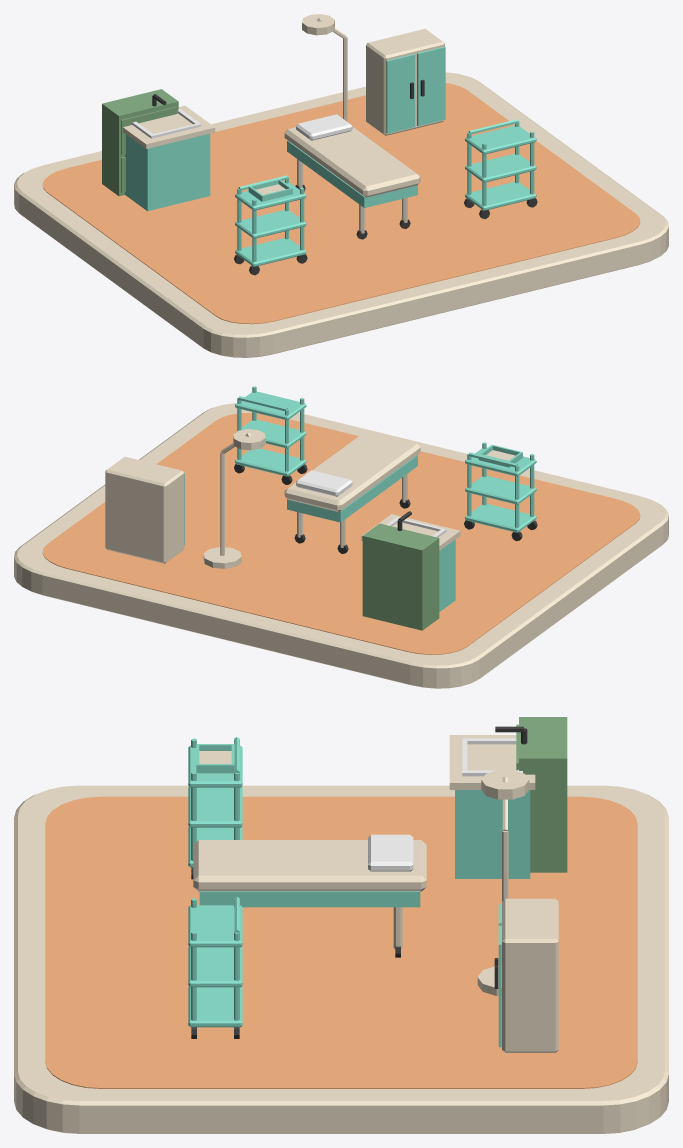
The picture shows the model from 3 angles, top to bottom: view 1: azimuth 30°, elevation 25°; view 2: azimuth 150°, elevation 25°; view 3: azimuth 270°, elevation 25°; orthographic projection. The views are drawn at different scales.
Visible parts, largest first — view 1: COM-02 Floor Surface, COM-01 Rounded Base Direct, Cabinet, Mattress, Cabinet.001, Equipment case, Door.001, Door, Counter, Tray.005, Tray.004, Tray (+6 smaller); view 2: COM-02 Floor Surface, COM-01 Rounded Base Direct, Equipment case, Cabinet.001, Mattress, Tray.001, Tray, Tray.003, Base, Tray.005, Cabinet, Pillow (+7 smaller); view 3: COM-02 Floor Surface, COM-01 Rounded Base Direct, Mattress, Equipment case, Cabinet.001, Cabinet, Counter, Base, Tray.005, Tray.003, Tray.004, Tray.001 (+5 smaller).
Part boxes in pixels (<box>): COM-02 Floor Surface: <box>42,83,640,324</box>; COM-01 Rounded Base Direct: <box>14,72,668,357</box>; Cabinet: <box>125,133,210,211</box>; Mattress: <box>284,127,420,197</box>; Cabinet.001: <box>102,89,178,196</box>; Equipment case: <box>366,28,444,135</box>; Door.001: <box>417,46,445,126</box>; Door: <box>386,54,414,133</box>; Counter: <box>123,105,215,148</box>; Tray.005: <box>465,125,536,154</box>; Tray.004: <box>465,153,536,182</box>; Tray: <box>235,238,306,266</box>; COM-02 Floor Surface: <box>42,413,640,654</box>; COM-01 Rounded Base Direct: <box>14,403,668,688</box>; Equipment case: <box>105,456,184,563</box>; Cabinet.001: <box>362,523,439,630</box>; Mattress: <box>284,431,420,511</box>; Tray.001: <box>465,475,536,504</box>; Tray: <box>465,504,536,532</box>; Tray.003: <box>235,448,306,476</box>; Base: <box>287,458,417,522</box>; Tray.005: <box>235,391,306,420</box>; Cabinet: <box>439,539,455,611</box>; Pillow: <box>296,470,352,496</box>; COM-02 Floor Surface: <box>45,796,637,1088</box>; COM-01 Rounded Base Direct: <box>14,785,668,1133</box>; Mattress: <box>193,840,426,891</box>; Equipment case: <box>502,898,558,1052</box>; Cabinet.001: <box>516,717,567,872</box>; Cabinet: <box>455,790,530,878</box>; Counter: <box>449,735,535,789</box>; Base: <box>199,896,420,907</box>; Tray.005: <box>188,905,242,947</box>; Tray.003: <box>188,986,242,1027</box>; Tray.004: <box>188,946,242,987</box>; Tray.001: <box>188,787,242,827</box>.
Bounding box in the file's own units: 6 × 1.96 × 5.2.
1 material, 1 textured.
